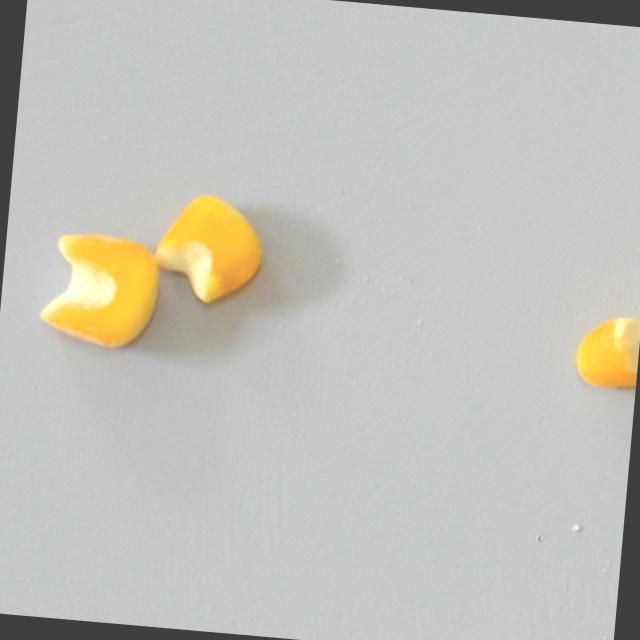dañado: (34, 219, 165, 354), (150, 181, 275, 313)
punto_negro: (572, 300, 640, 394)
